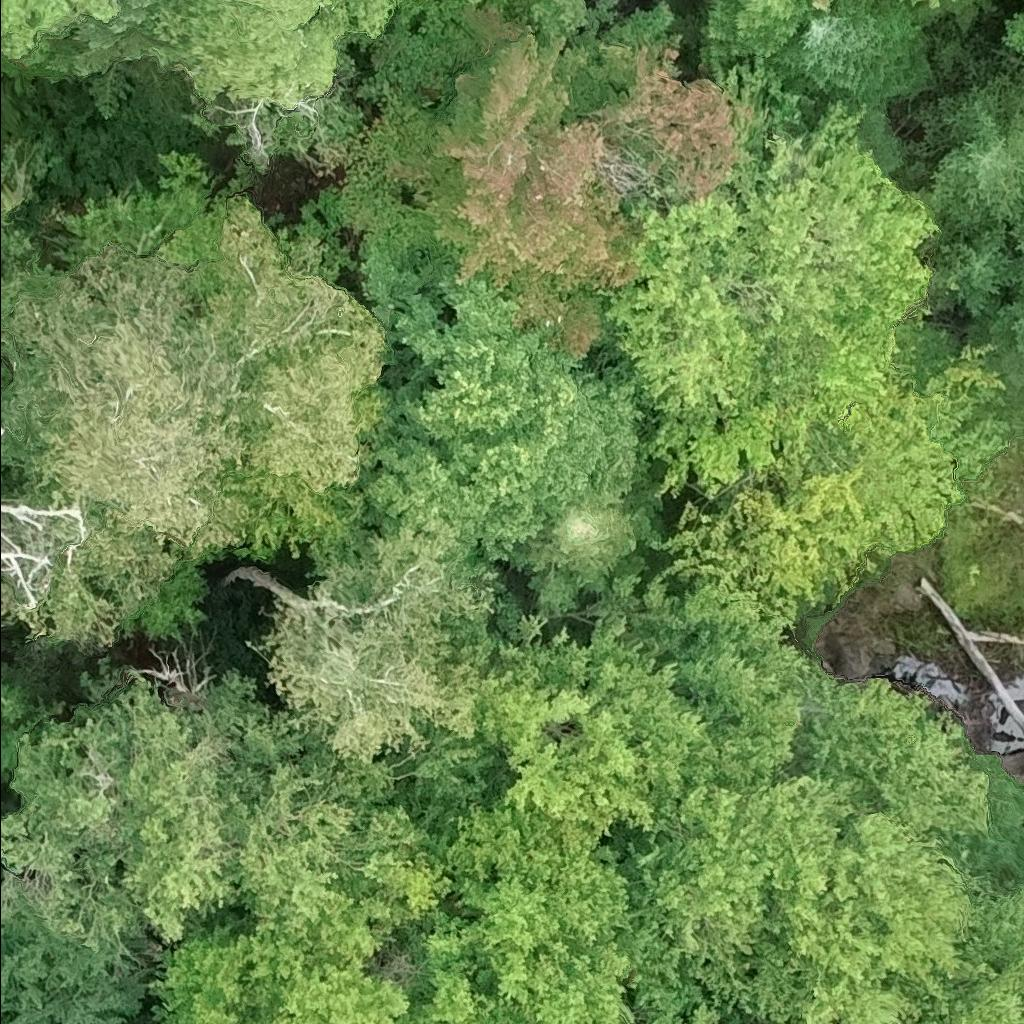crown: (599, 95, 1009, 629), (0, 197, 396, 647), (621, 671, 1002, 1023), (0, 668, 457, 955), (351, 0, 639, 365), (471, 571, 843, 841), (358, 274, 654, 564), (256, 525, 498, 763), (412, 800, 665, 1023), (585, 0, 827, 204), (149, 890, 428, 1023), (145, 0, 399, 109), (0, 871, 159, 1023), (511, 482, 662, 617), (771, 0, 937, 111), (914, 72, 1023, 236), (910, 878, 1023, 1023), (682, 0, 822, 73), (933, 220, 1023, 318), (0, 0, 121, 64), (959, 297, 1023, 395), (1000, 6, 1023, 69), (0, 677, 33, 719), (686, 999, 724, 1023), (898, 0, 955, 12), (1006, 220, 1023, 259), (426, 0, 494, 9), (813, 0, 838, 17), (1018, 281, 1023, 297), (774, 1020, 791, 1023), (1022, 82, 1023, 83)
